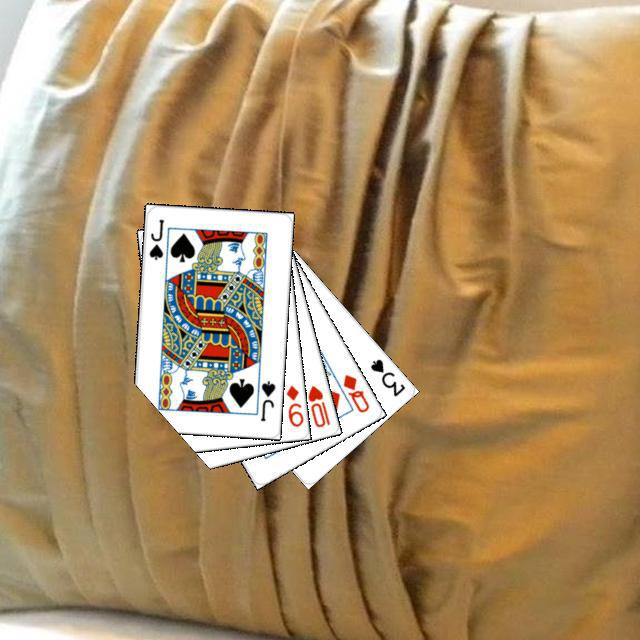10h: (303, 380, 332, 429)
3s: (365, 354, 407, 398)
9d: (281, 380, 304, 428)
Js: (256, 376, 277, 423), (144, 214, 165, 261)
Qd: (338, 369, 371, 414)
